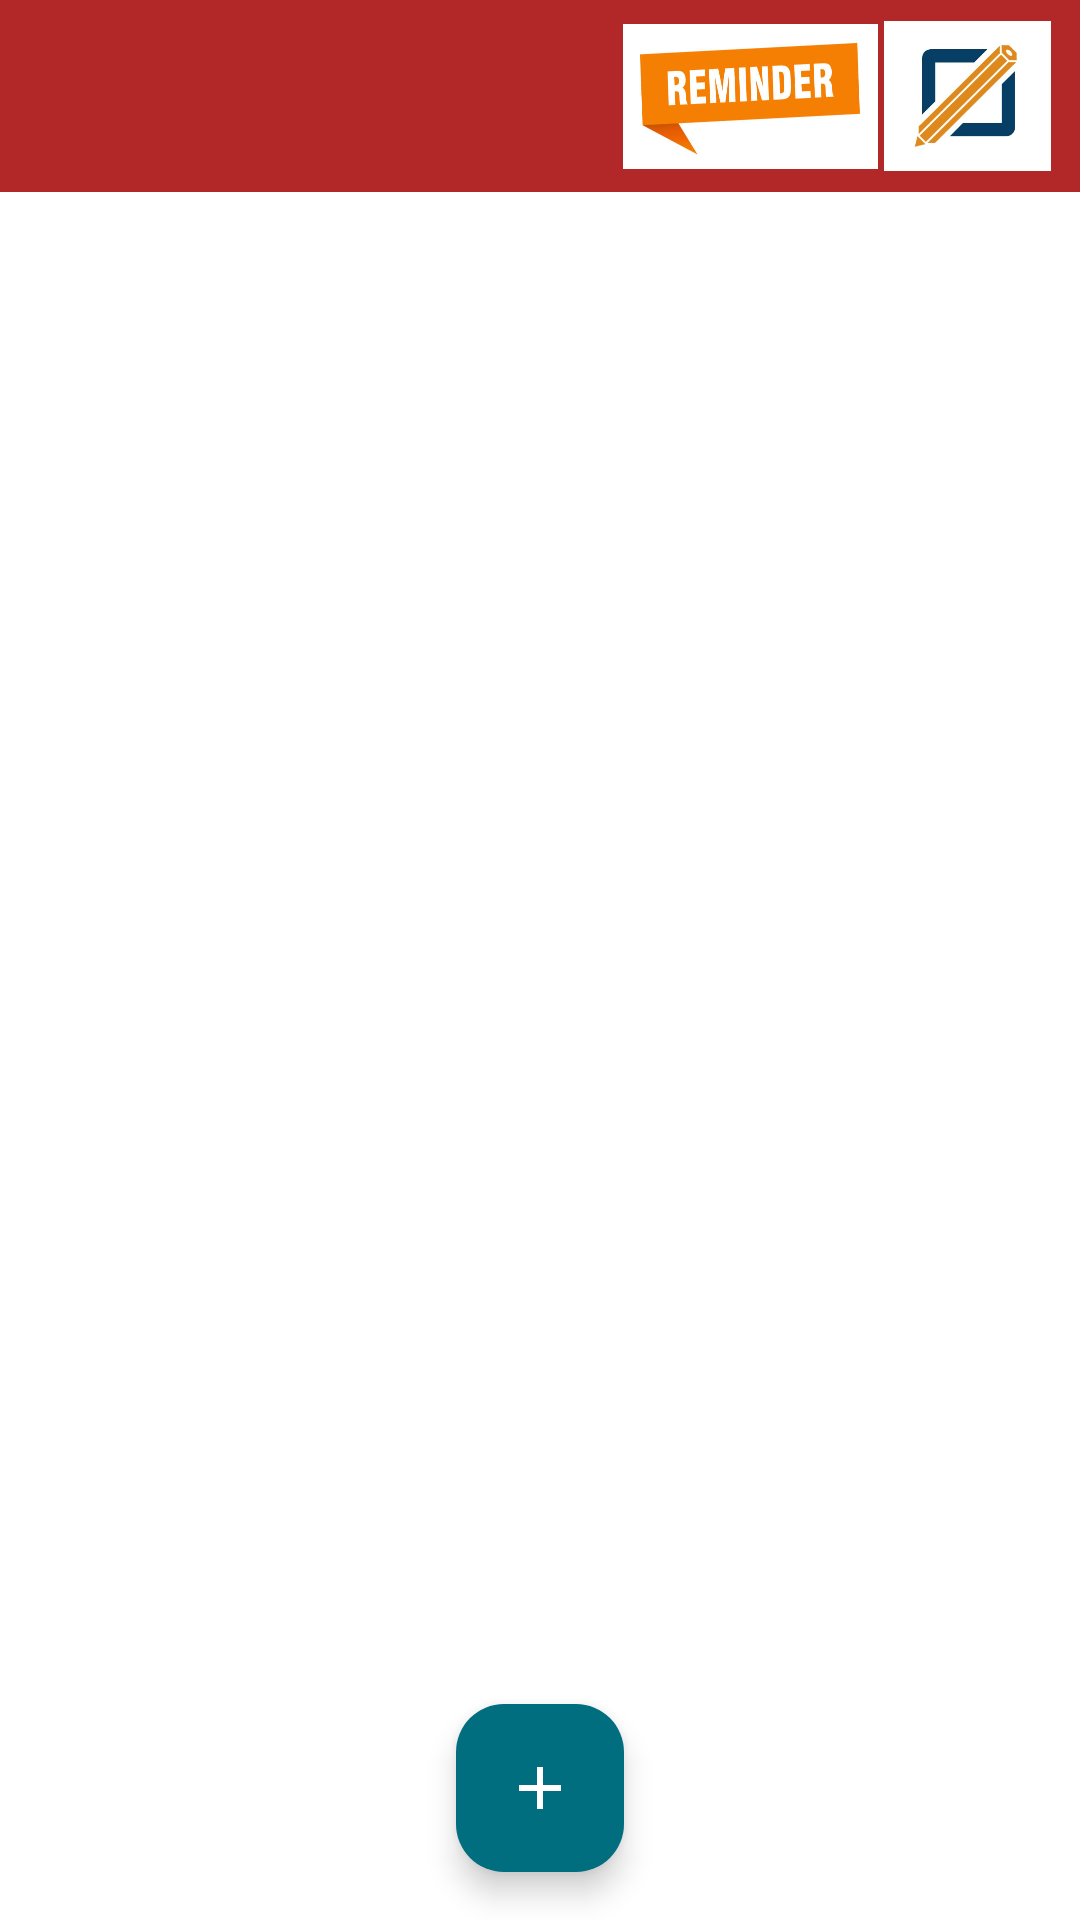

Icons on this 1080 × 1920 Android screen, each with the point to tap as (x=x, y=y):
plus: (x=540, y=1788)
